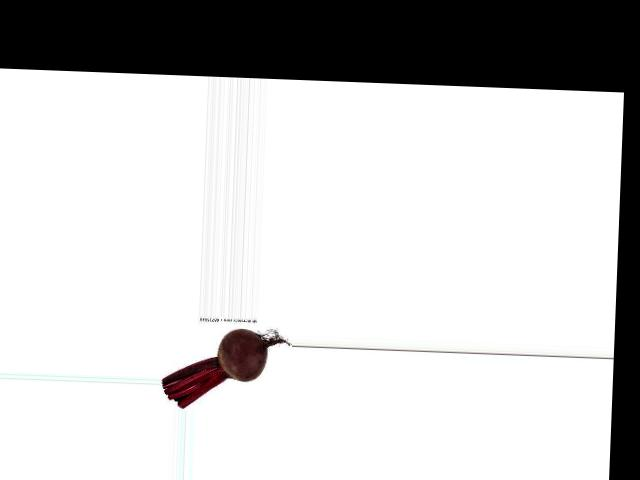beet: (160, 326, 290, 411)
